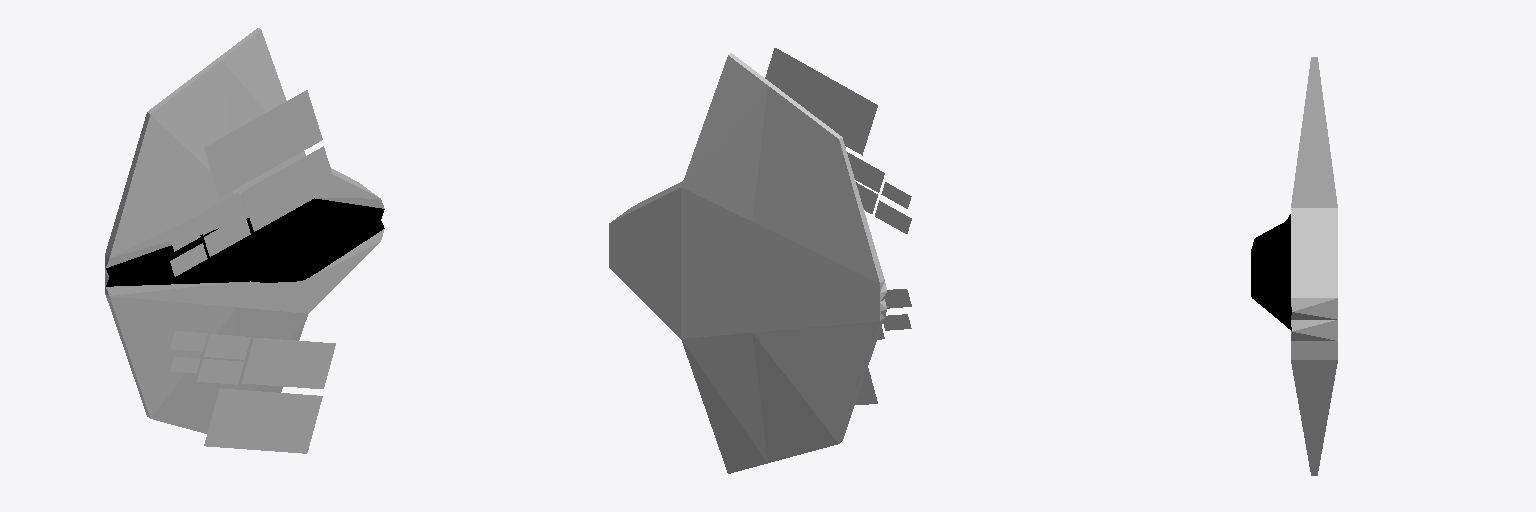
File: pod.obj
3 views of the same model, side by side, from view 1: azimuth 30°, elevation 25°; view 2: azimuth 150°, elevation 25°; view 3: azimuth 270°, elevation 25° (orthographic).
Parts seen in each view (by area): view 1: pod, decal_main_sponsor, decal_main_sponsor.001, decal_engine_supplier, decal_engine_supplier.001, decal_sponsor_2, decal_sponsor_1, decal_sponsor_1.001, decal_sponsor_2.001, decal_sponsor_3.001, decal_sponsor_3; view 2: pod, decal_main_sponsor, decal_sponsor_2, decal_sponsor_3; view 3: pod.
Part boxes in pixels (x1,y1,x2,y2): pod: (105, 28, 384, 433); decal_main_sponsor: (204, 90, 322, 197); decal_main_sponsor.001: (204, 388, 322, 453); decal_engine_supplier: (242, 146, 335, 231); decal_engine_supplier.001: (242, 337, 335, 388); decal_sponsor_2: (197, 193, 243, 235); decal_sponsor_1: (204, 214, 250, 256); decal_sponsor_1.001: (204, 334, 250, 359); decal_sponsor_2.001: (197, 359, 243, 384); decal_sponsor_3.001: (170, 331, 207, 351); decal_sponsor_3: (170, 243, 207, 276); pod: (609, 53, 886, 473); decal_main_sponsor: (765, 48, 877, 155); decal_sponsor_2: (847, 152, 884, 192); decal_sponsor_3: (875, 200, 911, 233); pod: (1251, 57, 1337, 475).
Size of the model in its own units: 3.72 by 5.52 by 1.39.